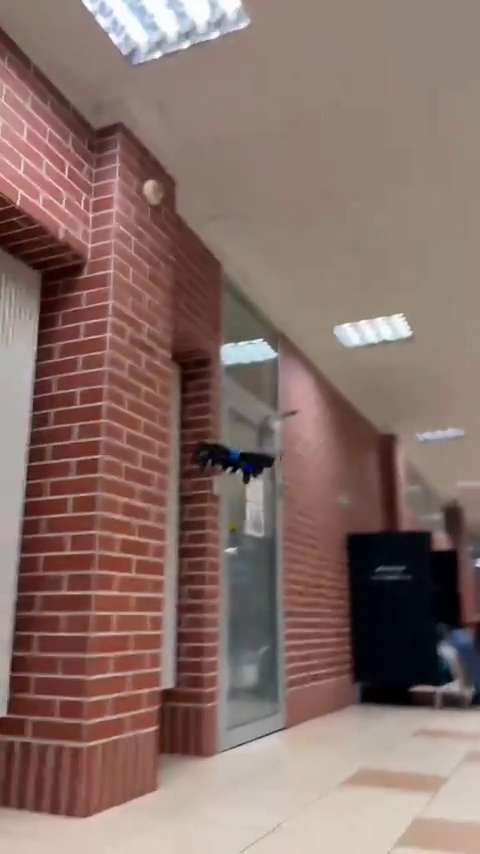drone: (194, 433, 285, 485)
